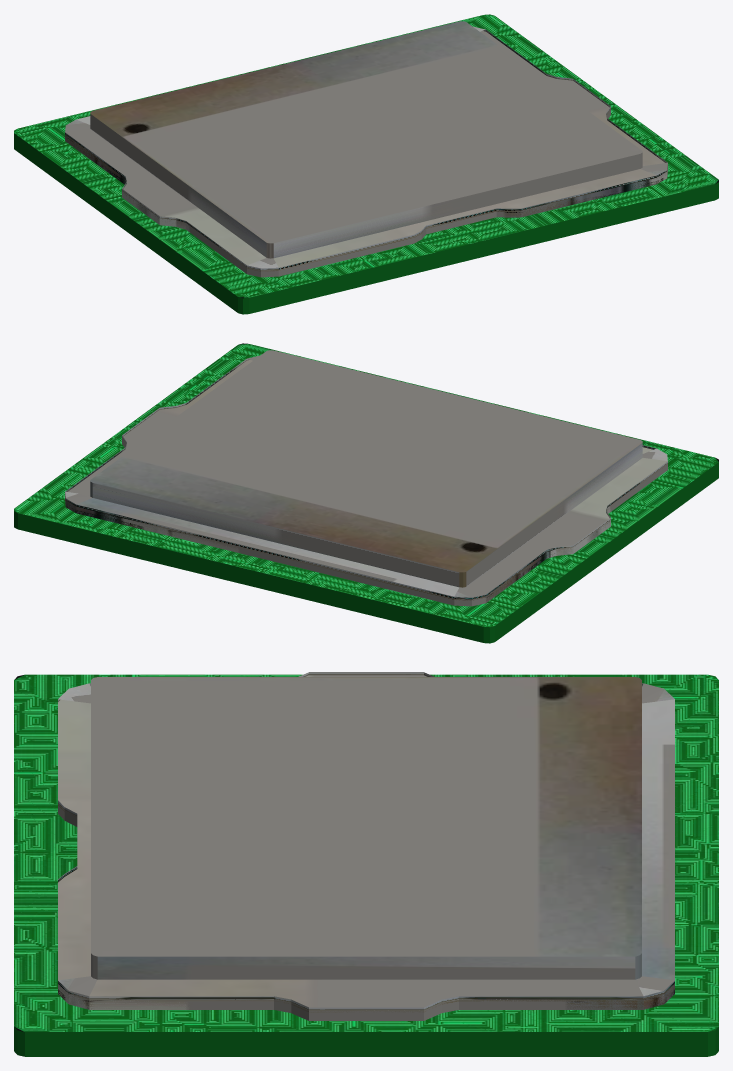
The model's file is cpu-intel-lga_lod1.glb.
3 views of the same model, one above another, from view 1: azimuth 30°, elevation 25°; view 2: azimuth 150°, elevation 25°; view 3: azimuth 270°, elevation 25° (orthographic). The views are drawn at different scales.
Parts seen in each view (by area): view 1: body; view 2: body; view 3: body.
Boxes of the visible parts, x1=… form: body: x1=14, y1=14, x2=718, y2=314; body: x1=14, y1=343, x2=718, y2=643; body: x1=14, y1=672, x2=718, y2=1056.
Size of the model in its own units: 0.045 by 0.0045 by 0.0375.
Materials: 8 (2 with a texture image).
